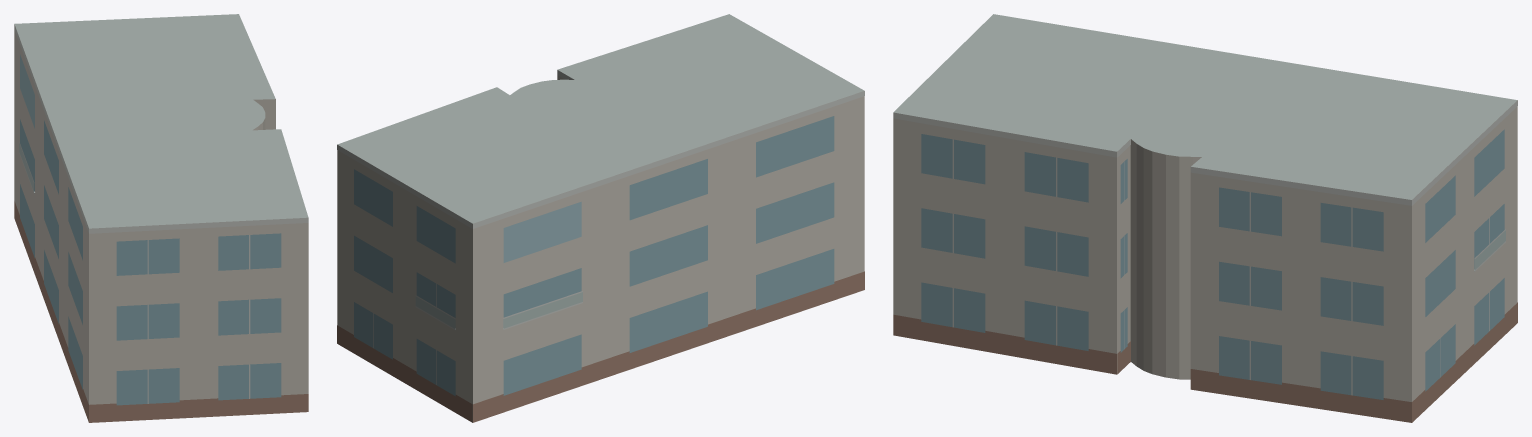
Rendered from survey-upis-32711196.glb.
3 renders of one model, left to right at view 1: azimuth 30°, elevation 25°; view 2: azimuth 150°, elevation 25°; view 3: azimuth 270°, elevation 25°, orthographic. The views are drawn at different scales.
Parts seen in each view (by area): view 1: survey-upis-32711196.tmp; view 2: survey-upis-32711196.tmp; view 3: survey-upis-32711196.tmp.
Boxes of the visible parts, x1=… form: survey-upis-32711196.tmp: x1=14, y1=14, x2=308, y2=422; survey-upis-32711196.tmp: x1=337, y1=14, x2=864, y2=422; survey-upis-32711196.tmp: x1=893, y1=14, x2=1517, y2=422.
Bounding box in the file's own units: 16.39 × 9.15 × 23.25.
